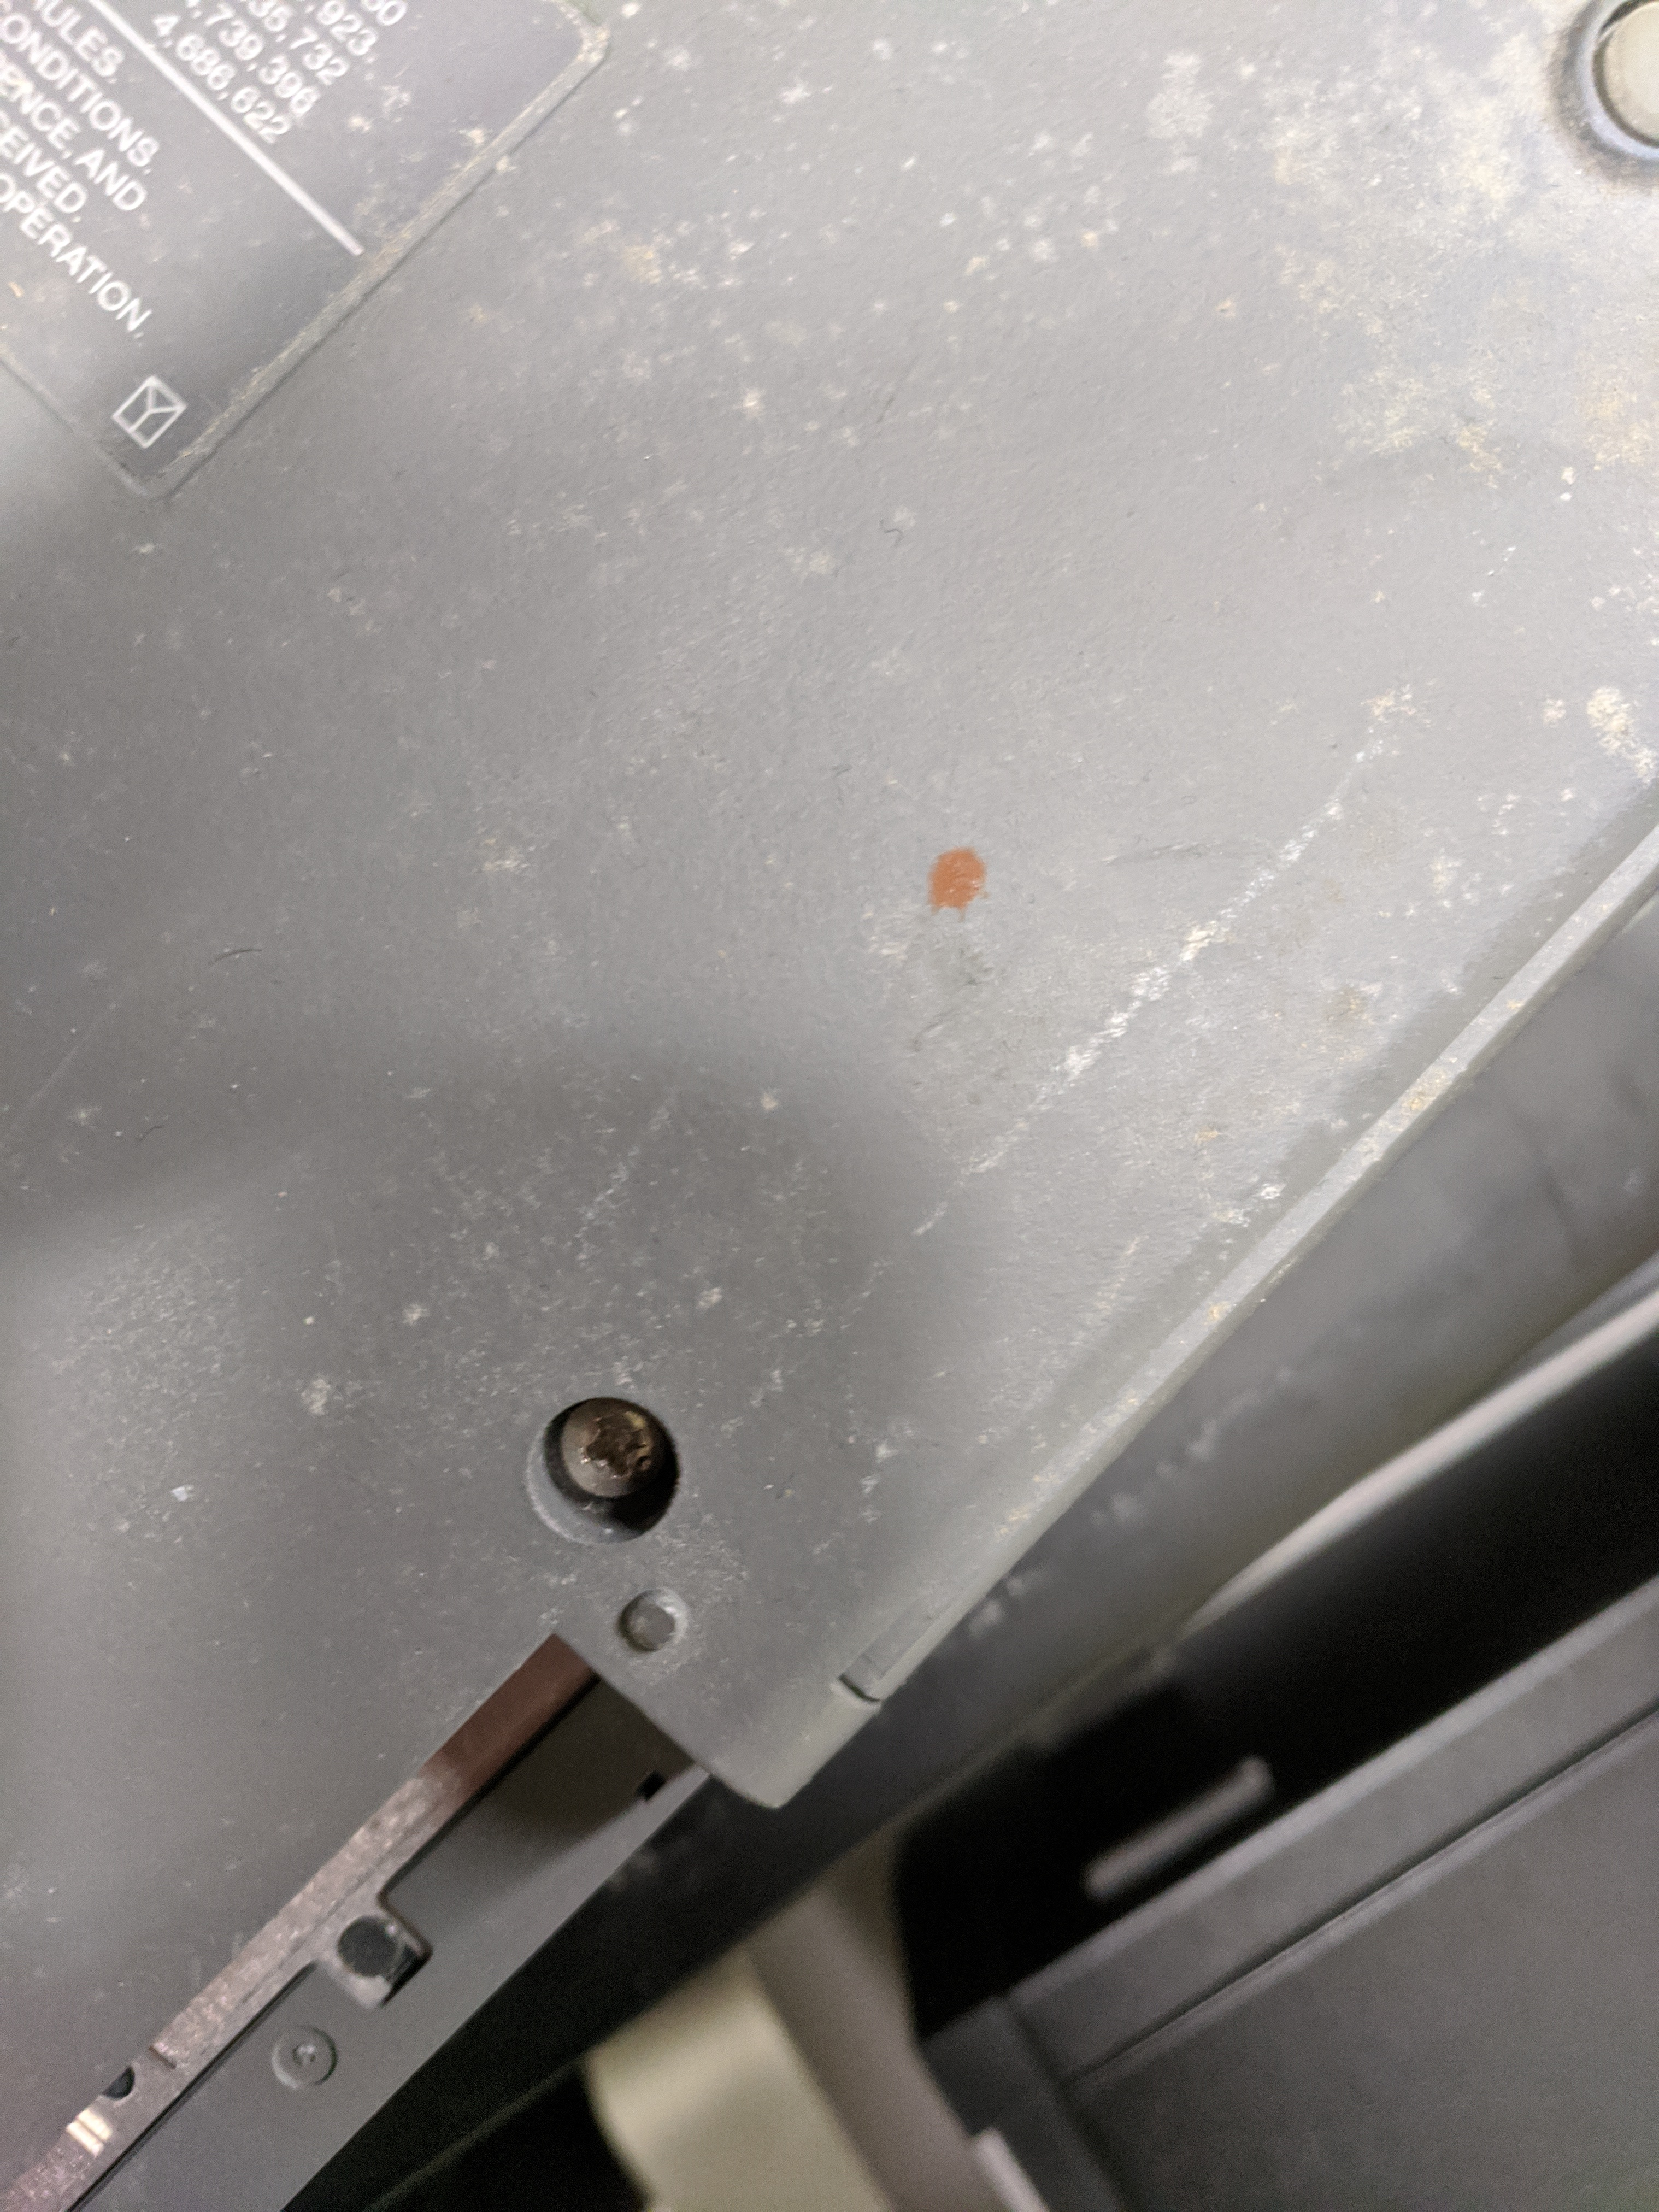cross_recessed_screw: (530, 1379, 687, 1536)
